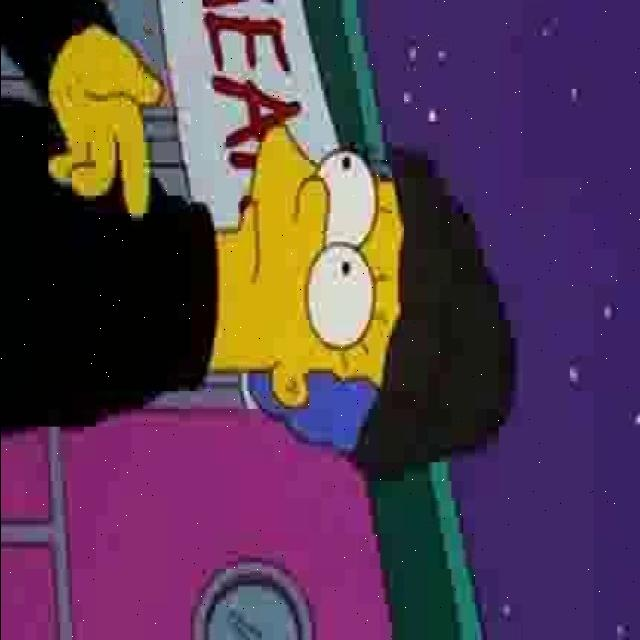Marge Simpson: (191, 121, 523, 470)
